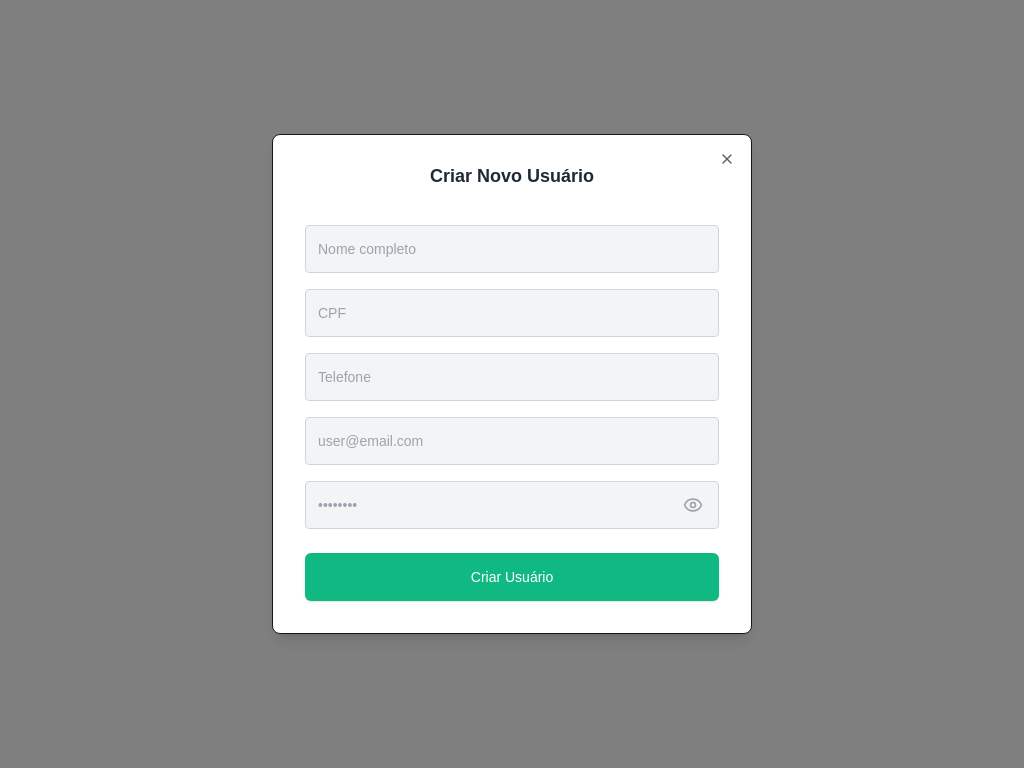
Test case: CreateUserModal › formats phone correctly
This screenshot has width=1024, height=768.
Type "11987654321" into the field with placeholder "Telefone".
click(512, 377); type("11987654321")  # box left=305, top=353, right=719, bottom=401
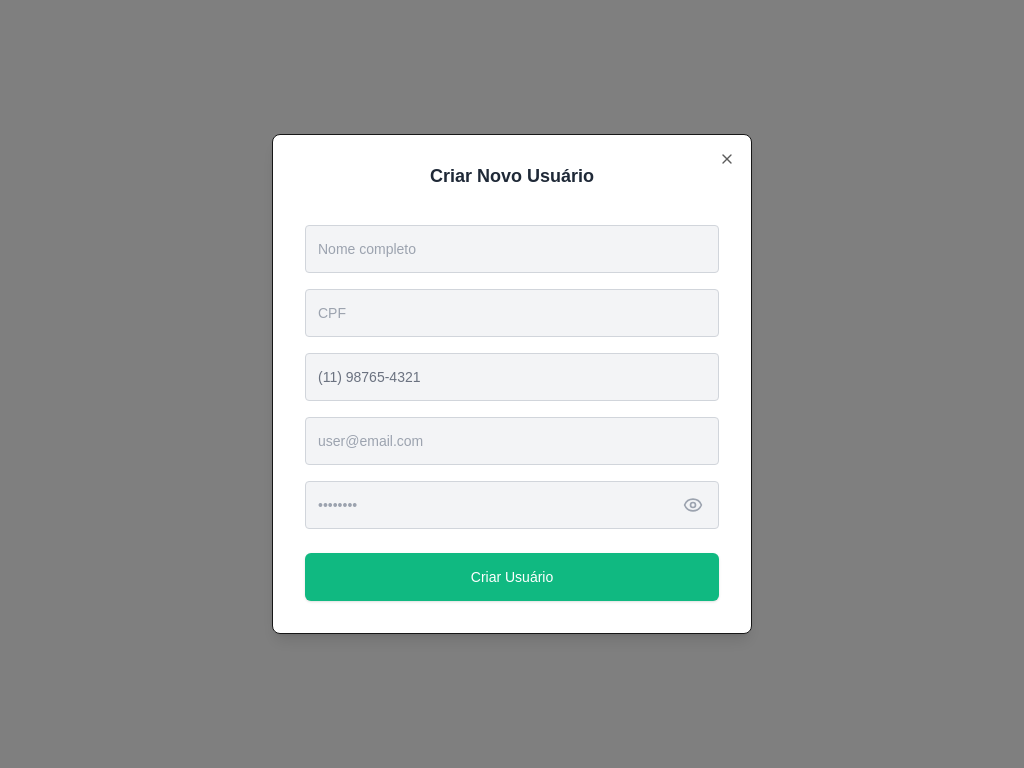
Now the field with placeholder "Telefone" holds "(11) 98765-4321", box left=305, top=353, right=719, bottom=401
